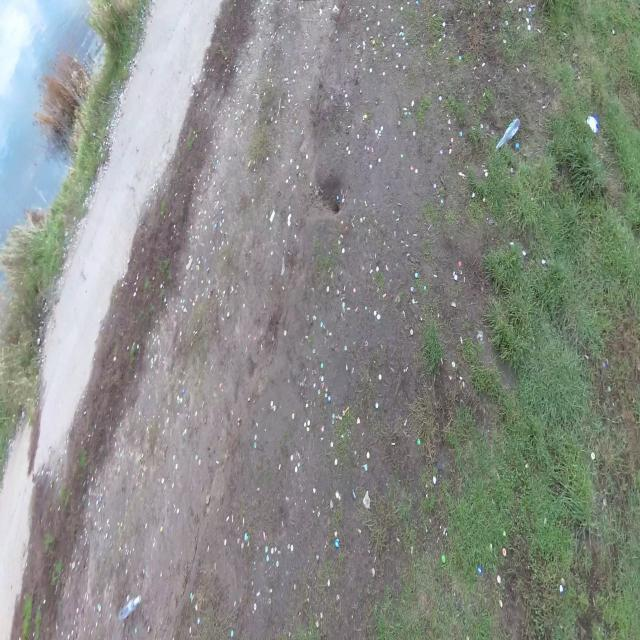rubbish: (495, 116, 520, 152), (120, 593, 143, 622), (584, 114, 600, 135)
